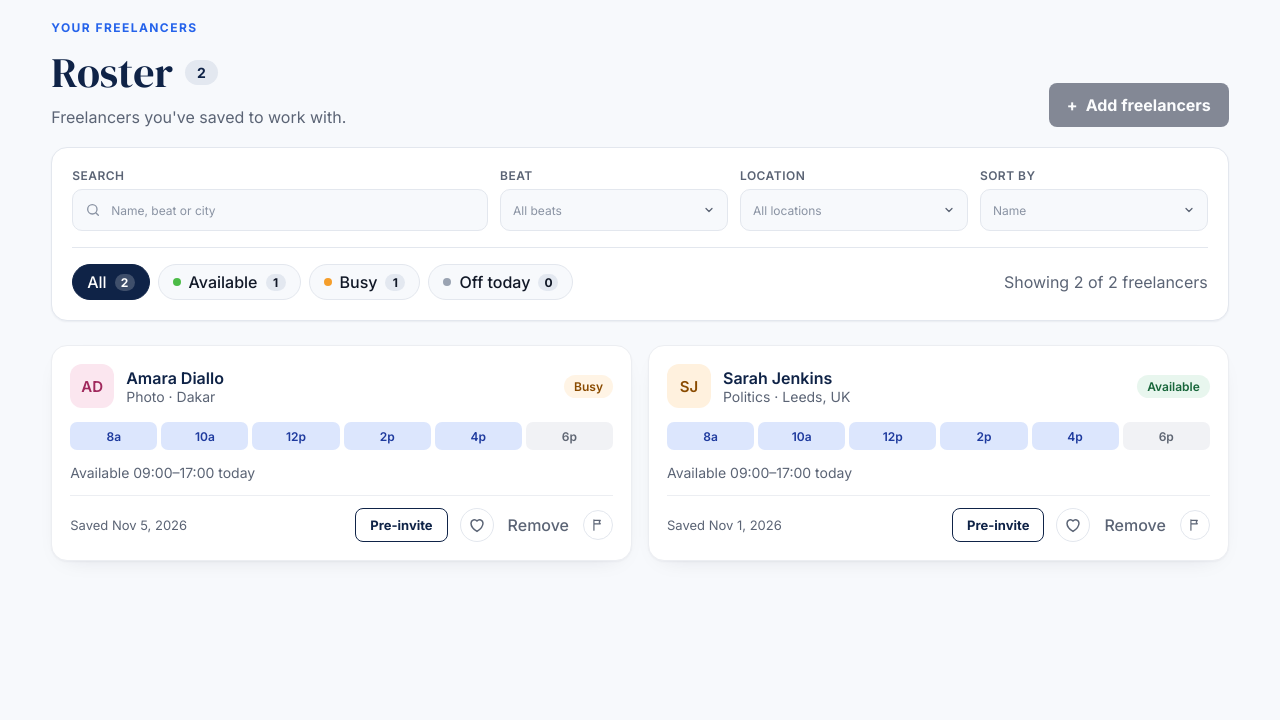
it: RosterBrowser › filters by beat and location, and clears them all at once
Select "Housing" in the dropdown labelled "Beat" at (614, 210), box [500,189,728,231]
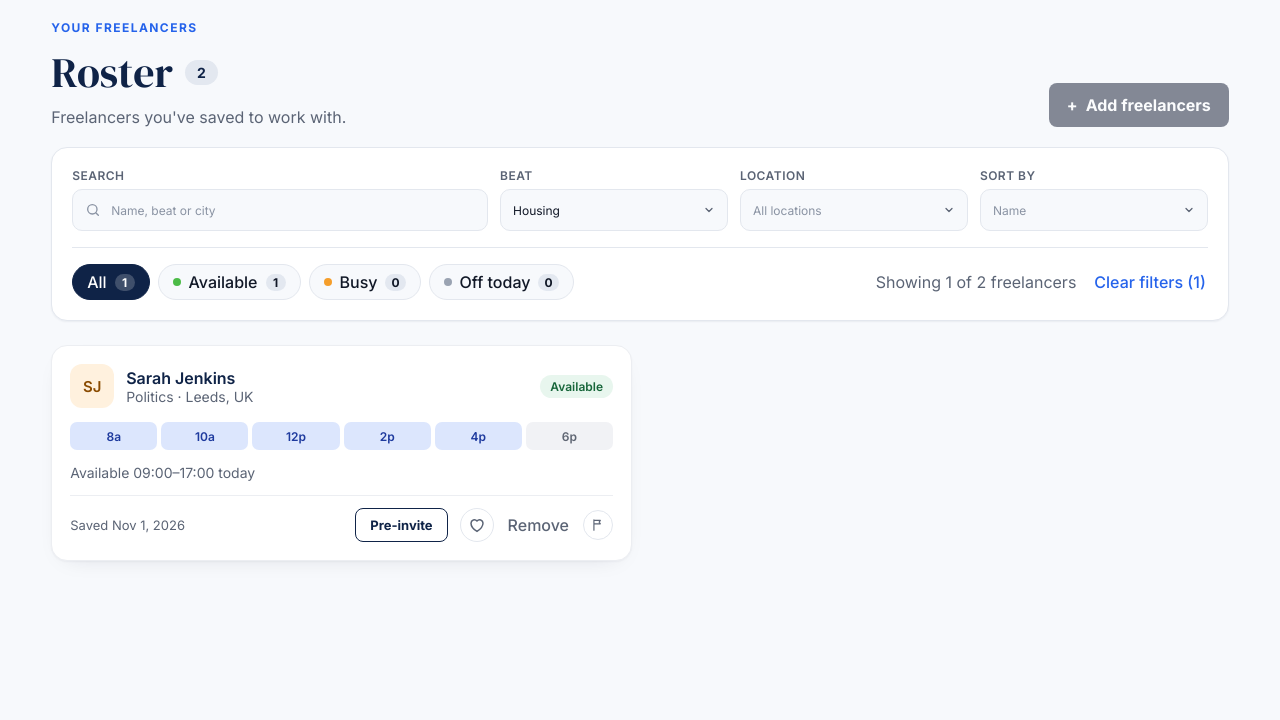
Click the button "Clear filters (1)" at (1150, 282), box [1092,268,1208,296]
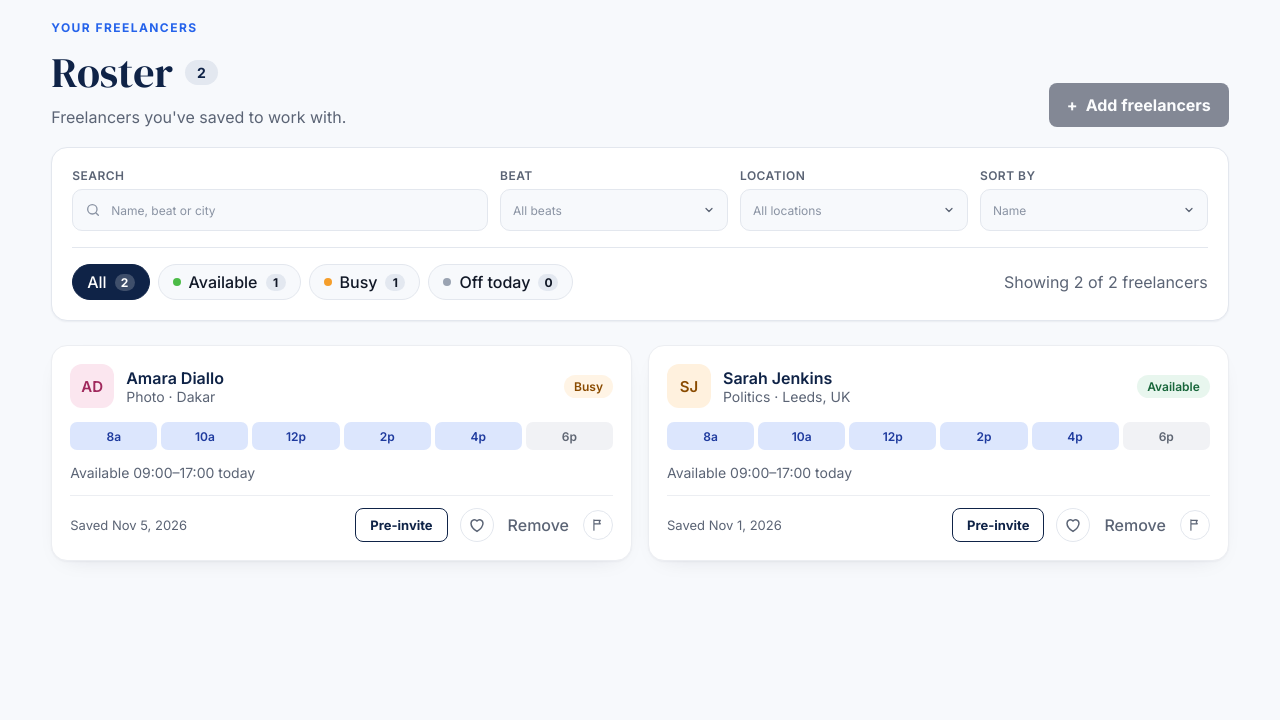
Select "Dakar" in the dropdown labelled "Location" at (854, 210), box [740,189,968,231]
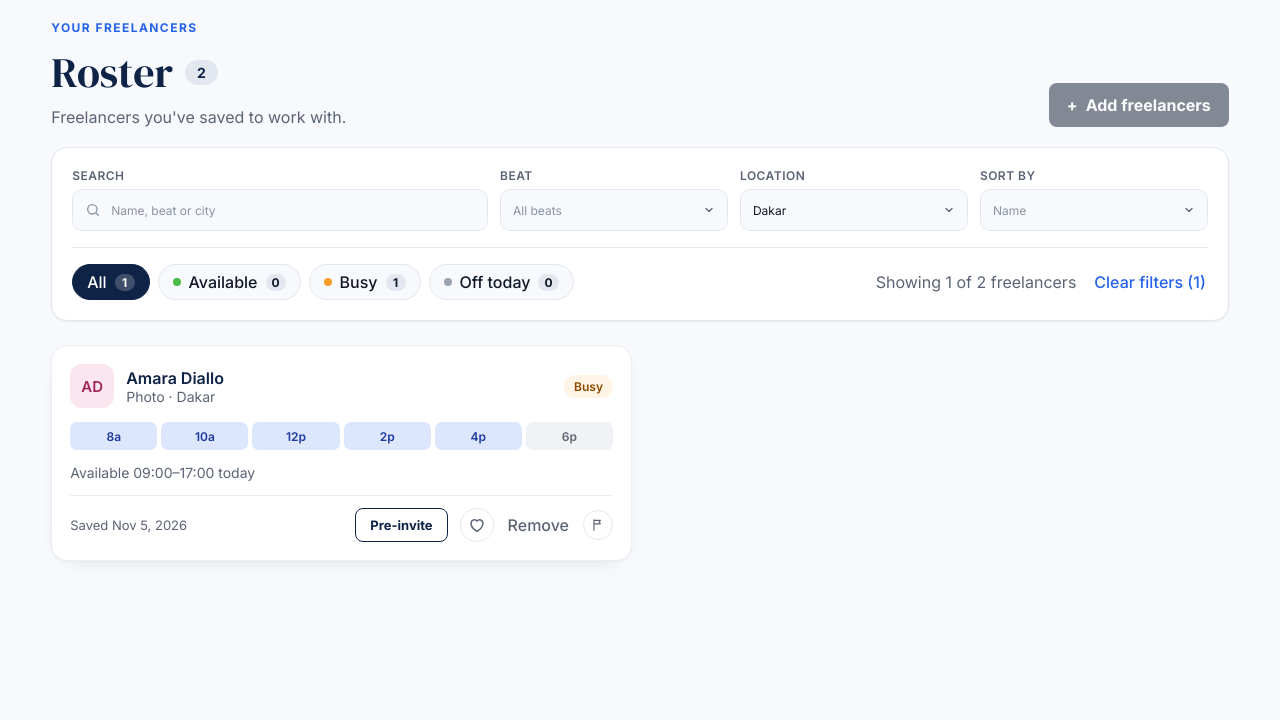
Select "Housing" in the dropdown labelled "Beat" at (614, 210), box [500,189,728,231]
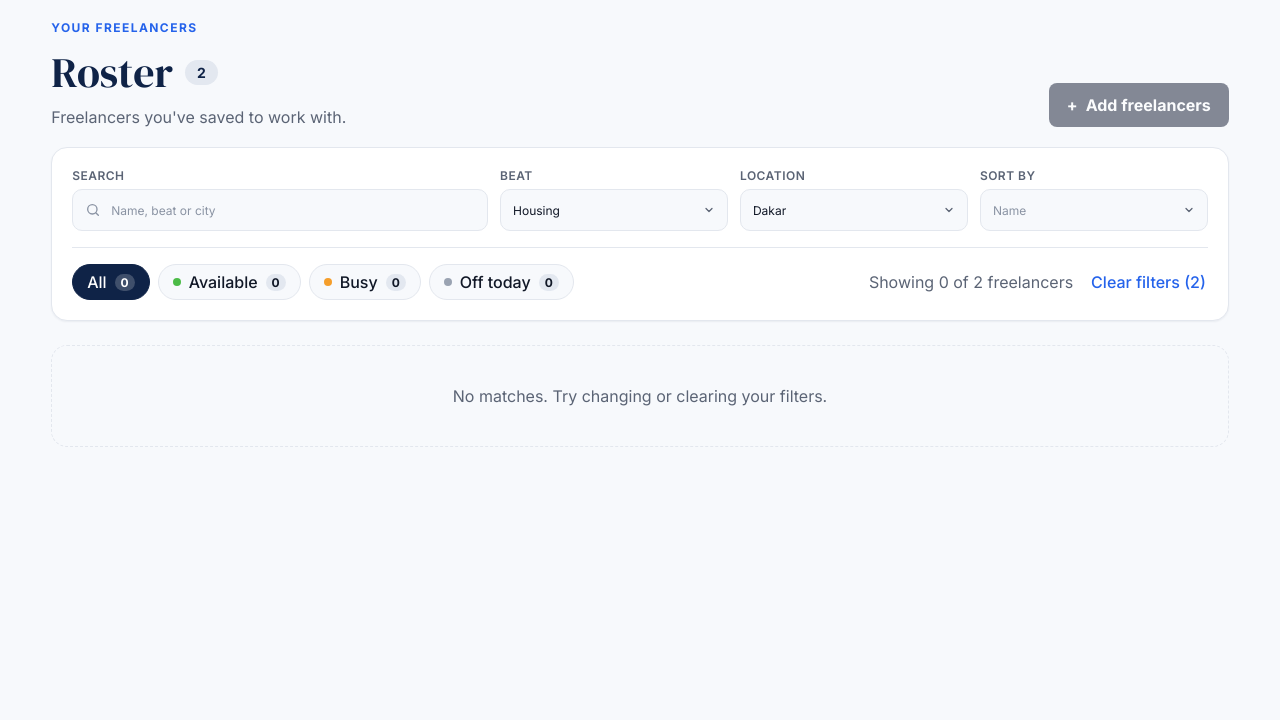
Result: the text "No matches. Try changing or clearing your filters." is shown at [51,345,1229,447]
